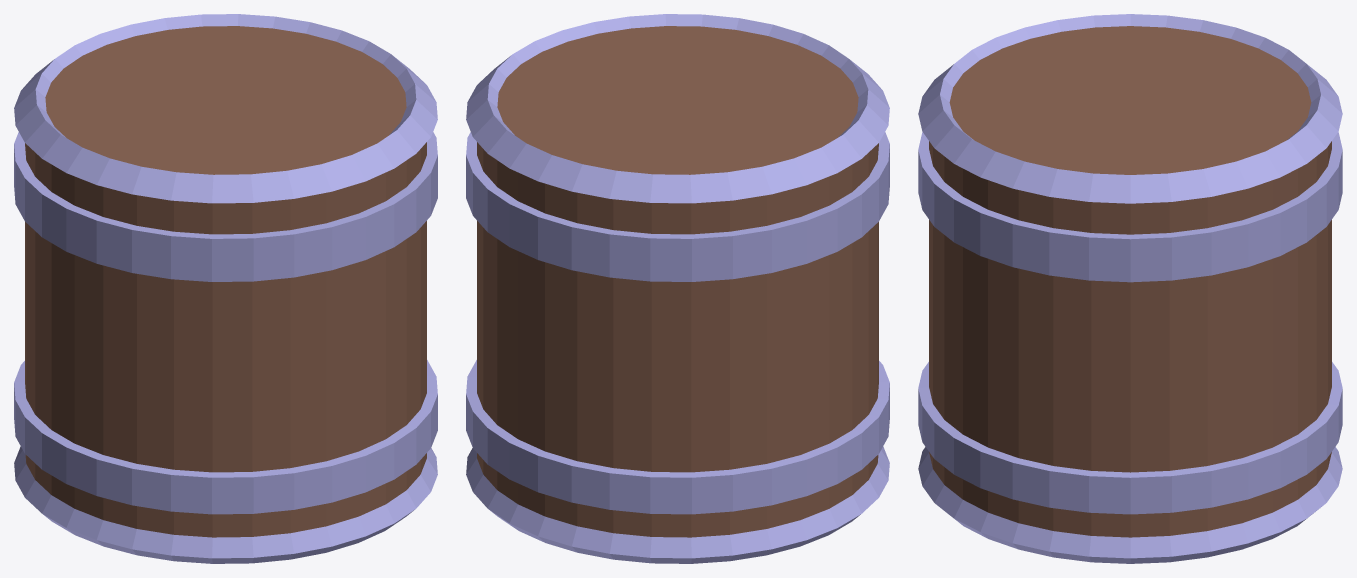
Rendered from barrel.glb.
The picture shows the model from 3 angles, left to right: view 1: azimuth 30°, elevation 25°; view 2: azimuth 150°, elevation 25°; view 3: azimuth 270°, elevation 25°; orthographic projection.
Visible parts, largest first — view 1: Cylinder; view 2: Cylinder; view 3: Cylinder.
Boxes of the visible parts, x1,y1,x2,y2 form: Cylinder: [14, 14, 437, 563]; Cylinder: [466, 14, 889, 563]; Cylinder: [918, 14, 1342, 563].
Bounding box in the file's own units: 2.11 × 2.11 × 2.11.
